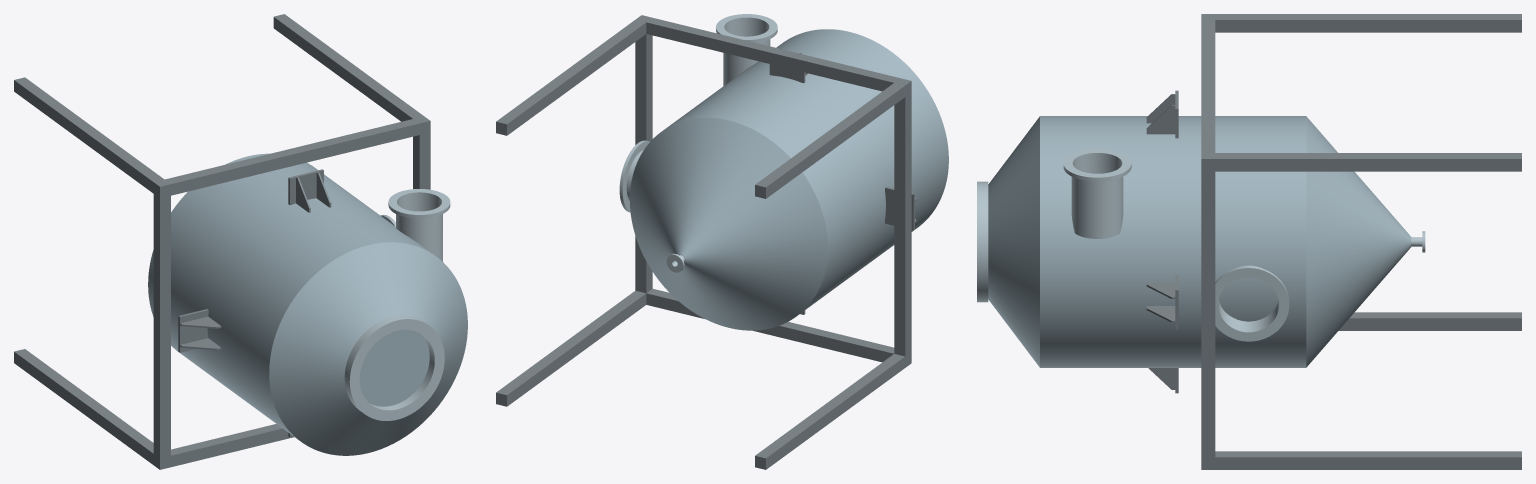
The picture shows the model from 3 angles, left to right: view 1: azimuth 30°, elevation 25°; view 2: azimuth 150°, elevation 25°; view 3: azimuth 270°, elevation 25°; orthographic projection. The views are drawn at different scales.
Parts seen in each view (by area): view 1: 本体_直筒, 本体_收口封头, 支撑_框架横梁, 支撑_立柱, 接口_顶部法兰, 接口_北侧偏东接管, 接口_北侧偏东法兰, 托耳_除雾器3底板, 托耳_除雾器2底板; view 2: 本体_下锥段, 本体_直筒, 支撑_框架横梁, 支撑_立柱, 接口_北侧偏东接管, 接口_北侧偏东法兰, 接口_东侧下口法兰, 托耳_除雾器3底板; view 3: 本体_直筒, 支撑_立柱, 本体_下锥段, 本体_收口封头, 支撑_框架横梁, 接口_北侧偏东接管, 接口_东侧下口法兰, 接口_顶部法兰, 接口_北侧偏东法兰, 接口_东侧下口接管, 托耳_除雾器2筋板-1.
Part boxes in pixels (x1,y1,x2,y2): 本体_直筒: [148, 153, 432, 438]; 本体_收口封头: [269, 242, 467, 455]; 支撑_框架横梁: [153, 116, 430, 469]; 支撑_立柱: [14, 14, 423, 467]; 接口_顶部法兰: [344, 315, 444, 420]; 接口_北侧偏东接管: [396, 196, 442, 261]; 接口_北侧偏东法兰: [388, 189, 450, 218]; 托耳_除雾器3底板: [178, 309, 208, 352]; 托耳_除雾器2底板: [288, 169, 323, 205]; 本体_下锥段: [629, 117, 827, 330]; 本体_直筒: [666, 29, 948, 313]; 支撑_框架横梁: [635, 15, 911, 365]; 支撑_立柱: [496, 17, 908, 469]; 接口_北侧偏东接管: [723, 21, 770, 85]; 接口_北侧偏东法兰: [716, 14, 777, 42]; 接口_东侧下口法兰: [619, 140, 649, 212]; 托耳_除雾器3底板: [885, 186, 914, 230]; 本体_直筒: [1040, 116, 1306, 367]; 支撑_立柱: [1208, 14, 1521, 469]; 本体_下锥段: [1306, 116, 1411, 367]; 本体_收口封头: [988, 116, 1039, 367]; 支撑_框架横梁: [1201, 14, 1215, 469]; 接口_北侧偏东接管: [1071, 156, 1123, 238]; 接口_东侧下口法兰: [1215, 266, 1289, 341]; 接口_顶部法兰: [977, 181, 988, 302]; 接口_北侧偏东法兰: [1063, 149, 1131, 181]; 接口_东侧下口接管: [1218, 265, 1278, 330]; 托耳_除雾器2筋板-1: [1146, 105, 1175, 134].
Size of the model in its own units: 2.45 by 2.45 by 3.89.
